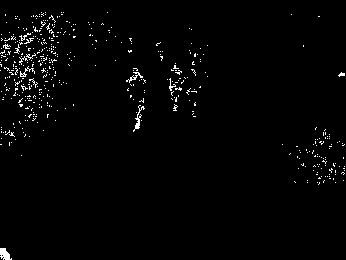person: (124, 66, 150, 134), (164, 60, 186, 116)
